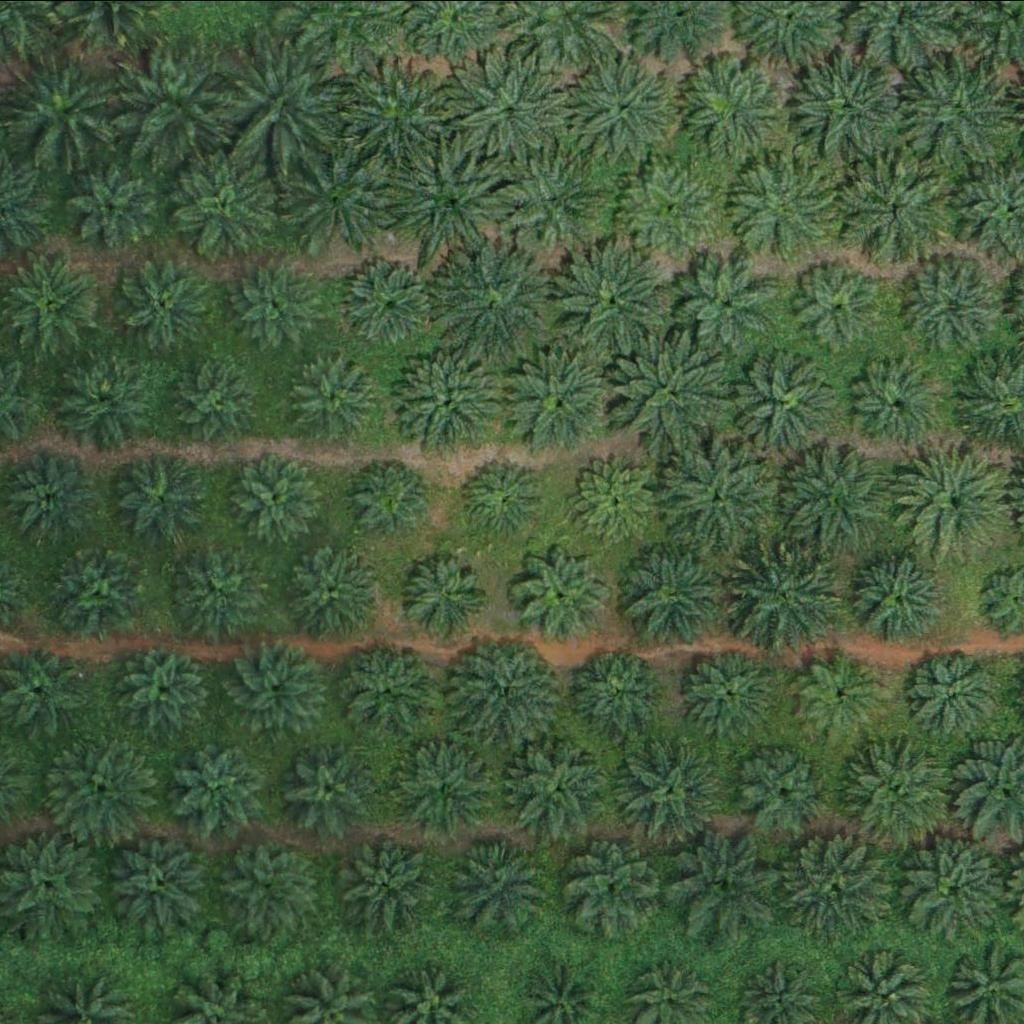Kelapa_Sawit: (118, 42, 232, 155), (225, 42, 339, 155), (502, 731, 616, 844), (448, 631, 562, 744), (618, 534, 732, 647), (731, 542, 845, 655), (43, 728, 156, 841), (101, 823, 214, 936), (783, 825, 896, 938), (902, 830, 1015, 943), (840, 536, 953, 649), (902, 444, 1015, 557), (391, 345, 504, 458), (507, 344, 620, 457), (440, 241, 553, 354), (558, 243, 671, 356), (730, 147, 843, 260), (839, 155, 952, 268), (340, 62, 453, 175), (907, 50, 1020, 163), (2, 58, 116, 170), (663, 437, 777, 549), (775, 440, 889, 552), (843, 343, 957, 455), (169, 147, 282, 259), (283, 140, 396, 252), (218, 630, 331, 742), (662, 826, 775, 938), (609, 733, 722, 845), (840, 736, 953, 848), (613, 336, 726, 448), (726, 342, 839, 454), (398, 145, 511, 257), (500, 143, 613, 255), (459, 54, 572, 166), (570, 53, 683, 165), (794, 48, 907, 160), (110, 251, 211, 351), (55, 350, 156, 450), (110, 446, 211, 546), (167, 541, 268, 641), (280, 540, 381, 640), (117, 640, 218, 740), (168, 737, 269, 837), (558, 836, 659, 936), (729, 739, 830, 839), (675, 255, 776, 355), (621, 159, 722, 259), (681, 59, 782, 159), (2, 254, 102, 354), (215, 833, 315, 933), (337, 833, 437, 933), (445, 828, 545, 928), (393, 736, 493, 836), (567, 642, 667, 742), (681, 642, 781, 742), (513, 545, 613, 645), (904, 252, 1004, 352), (231, 261, 319, 349), (348, 256, 436, 344), (173, 359, 261, 447), (913, 649, 1001, 737), (404, 550, 492, 638), (458, 452, 546, 540), (572, 455, 660, 543), (290, 353, 379, 440), (230, 453, 319, 540), (66, 162, 154, 249), (52, 547, 140, 634), (288, 745, 376, 832), (343, 645, 431, 732), (797, 650, 885, 737), (346, 455, 434, 542), (794, 259, 882, 346)
